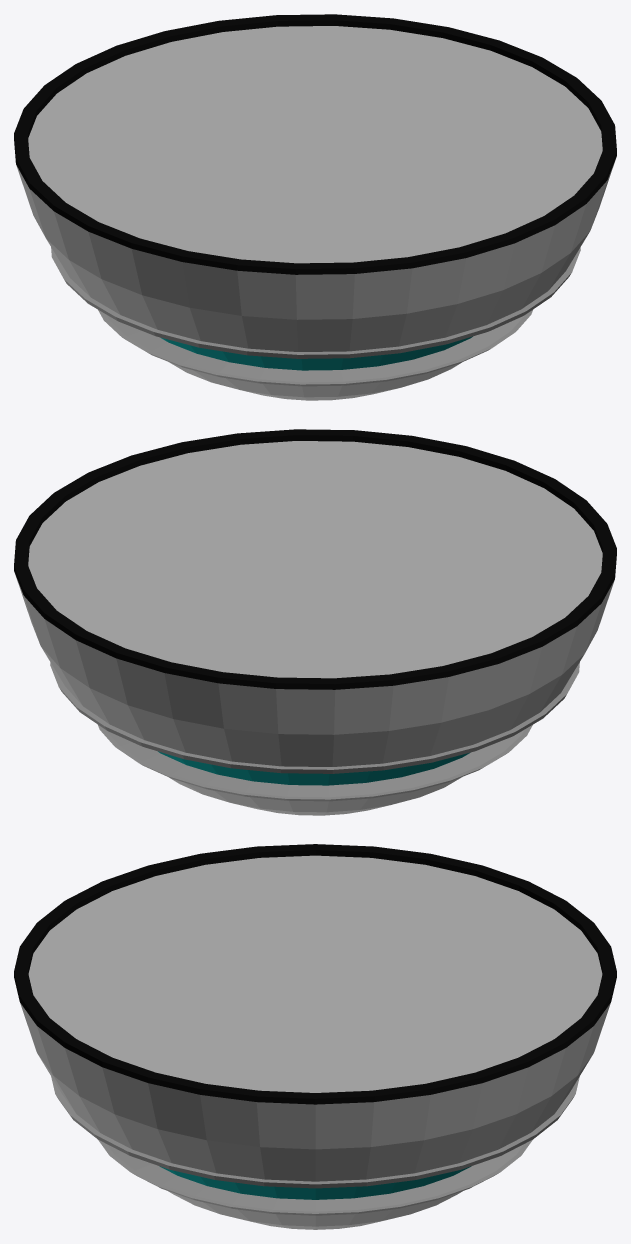
File: Exit.fbx
The picture shows the model from 3 angles, top to bottom: view 1: azimuth 30°, elevation 25°; view 2: azimuth 150°, elevation 25°; view 3: azimuth 270°, elevation 25°; orthographic projection.
Parts seen in each view (by area): view 1: Сфера; view 2: Сфера; view 3: Сфера.
Part boxes in pixels (<box>): Сфера: <box>14,14,616,400</box>; Сфера: <box>14,429,616,815</box>; Сфера: <box>14,844,616,1229</box>.
Size of the model in its own units: 196 by 83.3 by 196.
